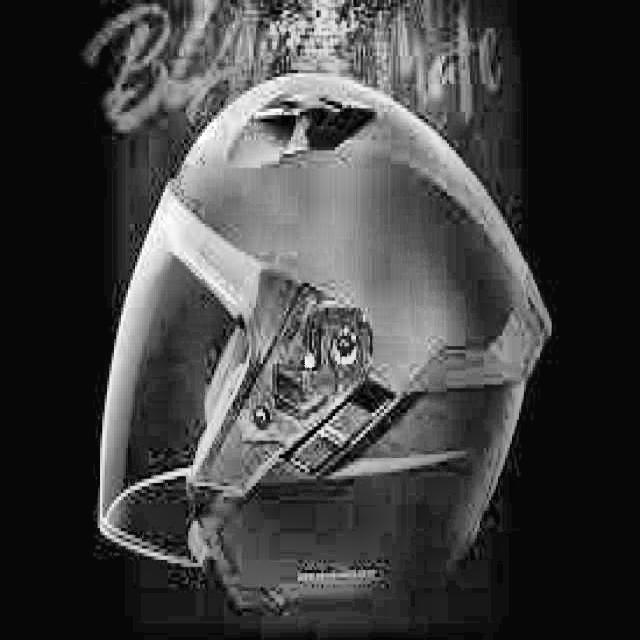Helmet: (91, 67, 554, 592)
